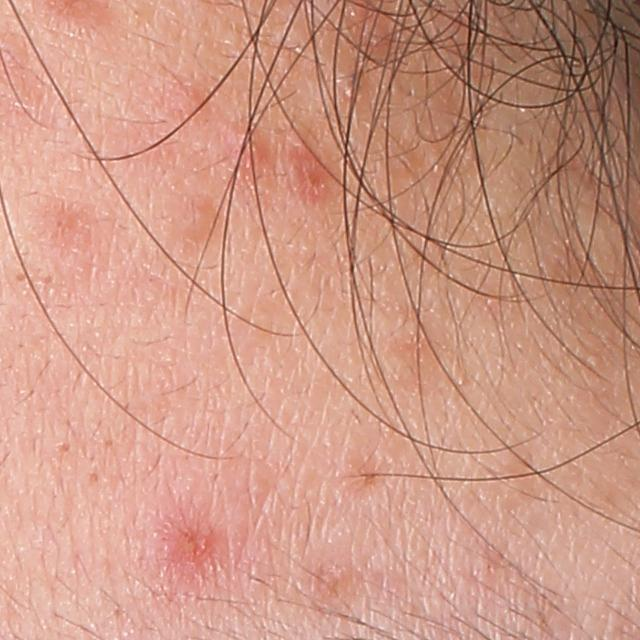comedo: (85, 468, 107, 487), (54, 439, 75, 458)
